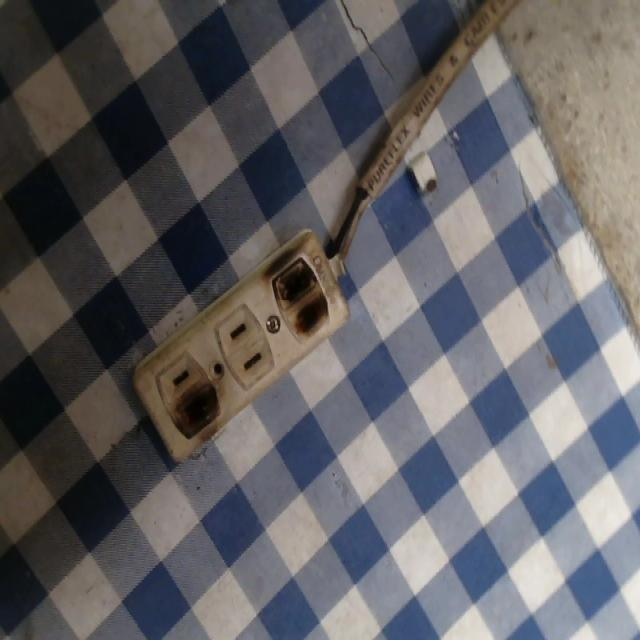-: (266, 242, 336, 338), (171, 380, 223, 441)
